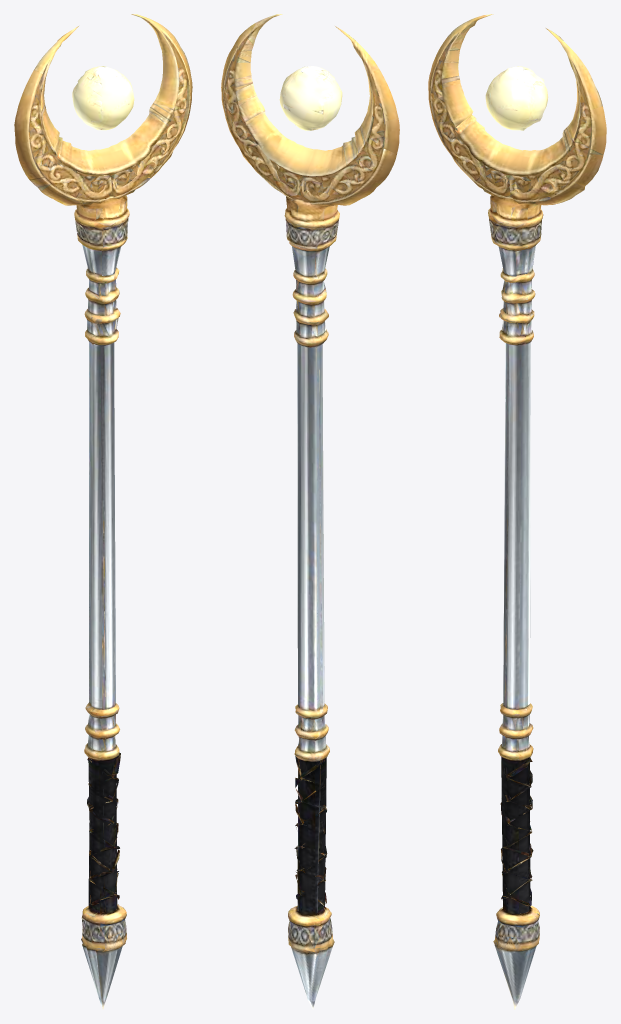
Rendered from staff_moon.glb.
3 renders of one model, left to right at view 1: azimuth 30°, elevation 25°; view 2: azimuth 150°, elevation 25°; view 3: azimuth 330°, elevation 25°, orthographic.
Parts seen in each view (by area): view 1: staff_moon; view 2: staff_moon; view 3: staff_moon.
Boxes of the visible parts, box(x1,y1,x2,y2) form: staff_moon: box(14, 14, 192, 1009); staff_moon: box(221, 14, 399, 1009); staff_moon: box(428, 14, 606, 1009).
Bounding box in the file's own units: 0.1885 × 1 × 0.055.
1 material, 1 textured.
